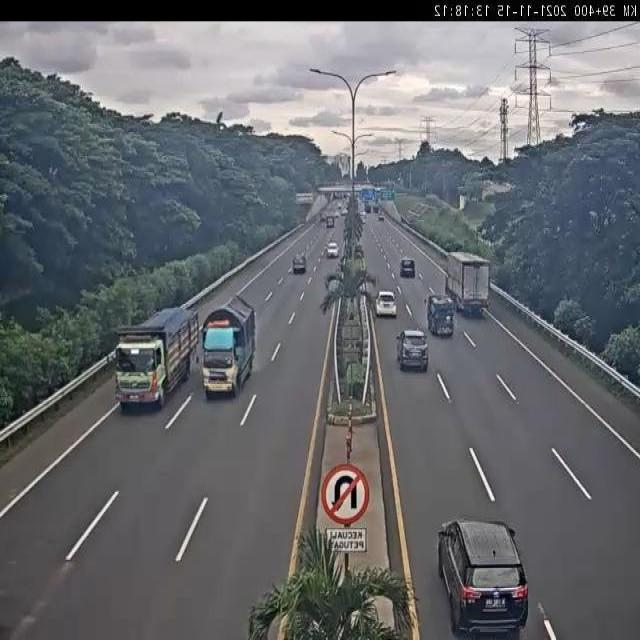Car: (436, 517, 527, 640), (398, 325, 430, 371), (374, 290, 398, 318), (399, 257, 415, 278), (325, 242, 340, 258)
Truck: (114, 308, 199, 412), (200, 296, 255, 400), (445, 250, 490, 317), (424, 294, 455, 338)
